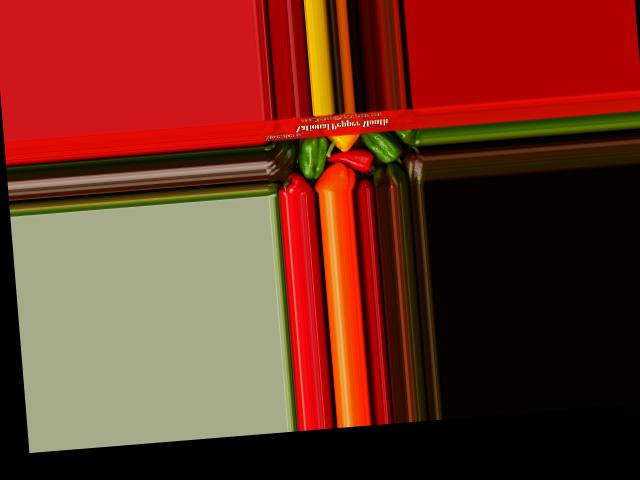bell_pepper: (264, 138, 298, 181)
